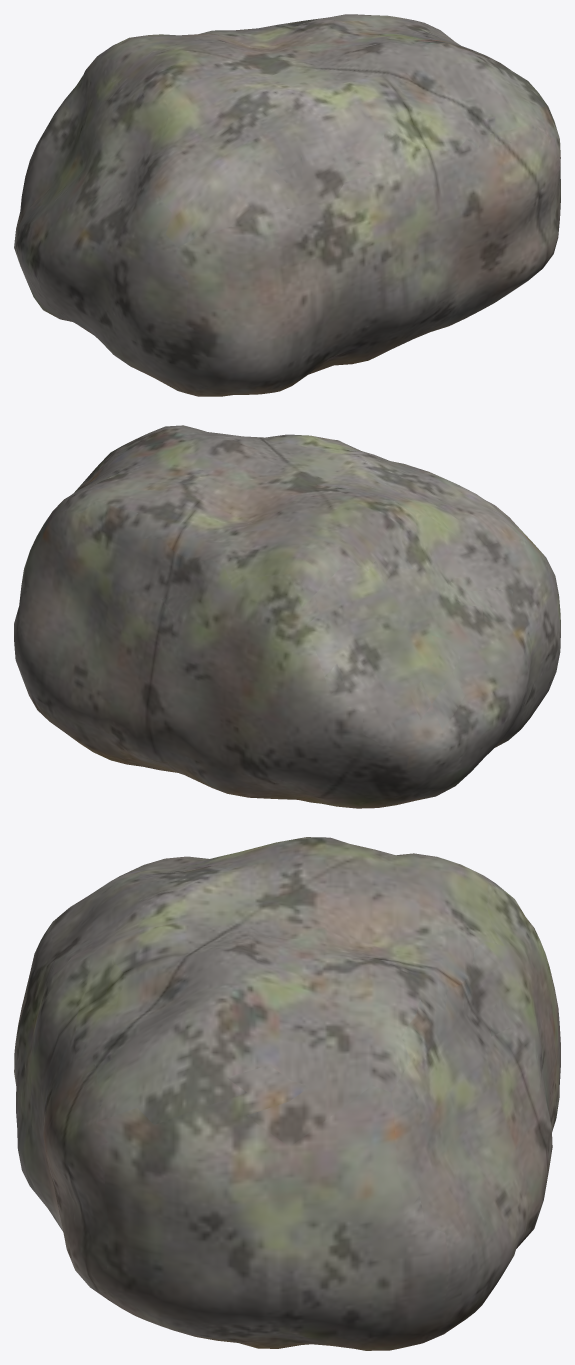
The model's file is rock_a.glb.
3 renders of one model, top to bottom at view 1: azimuth 30°, elevation 25°; view 2: azimuth 150°, elevation 25°; view 3: azimuth 270°, elevation 25°, orthographic. The views are drawn at different scales.
Parts seen in each view (by area): view 1: rock_a; view 2: rock_a; view 3: rock_a.
Boxes of the visible parts, x1,y1,x2,y2 form: rock_a: (14, 14, 560, 396); rock_a: (14, 425, 560, 808); rock_a: (14, 837, 560, 1350).
Bounding box in the file's own units: 2.4 × 1.29 × 1.83.
1 material, 1 textured.
